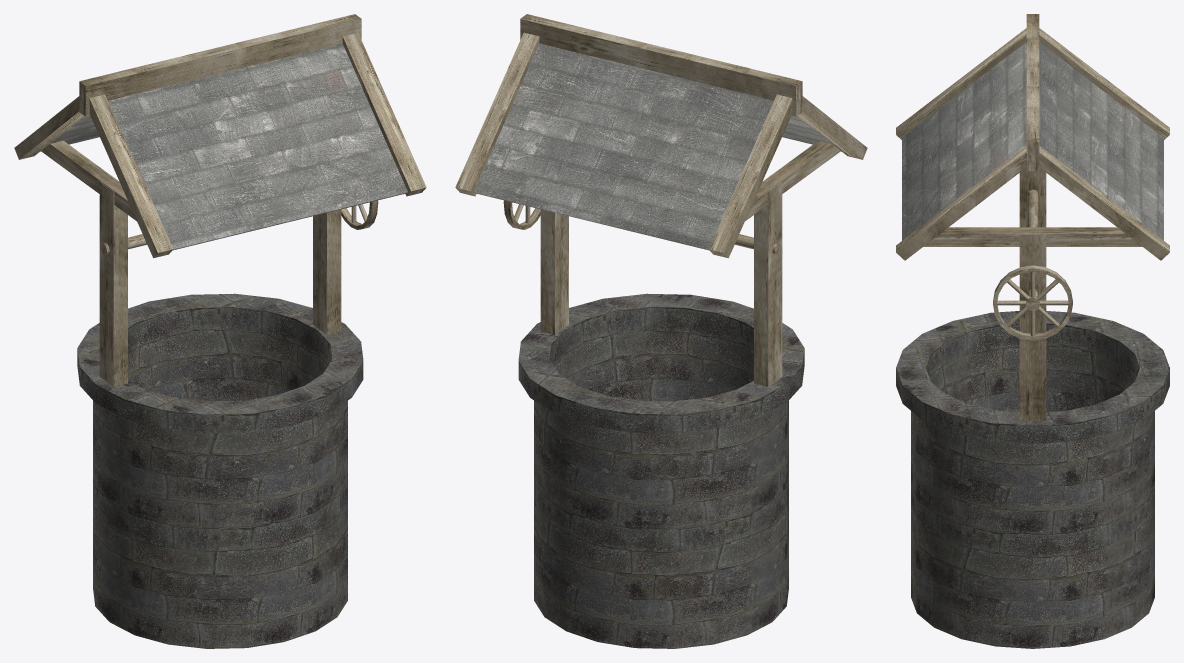
Rendered from Well.fbx.
3 renders of one model, left to right at view 1: azimuth 30°, elevation 25°; view 2: azimuth 150°, elevation 25°; view 3: azimuth 270°, elevation 25°, orthographic. The views are drawn at different scales.
Parts seen in each view (by area): view 1: pCylinder1, pCube5, pCube6, pCube8, pCube1, pCube2, pCube7, pCube3; view 2: pCylinder1, pCube5, pCube6, pCube8, pCube1, pCube2, pCube7, pCube3; view 3: pCylinder1, pCube5, pCube7, pCube2, pCube8, pCube4, pCube6, pPipe1, pCube1, pCylinder3.
Boxes of the visible parts, x1,y1,x2,y2 form: pCylinder1: [77, 293, 363, 648]; pCube5: [40, 43, 407, 250]; pCube6: [79, 14, 361, 116]; pCube8: [14, 94, 173, 258]; pCube1: [99, 181, 127, 386]; pCube2: [313, 209, 341, 334]; pCube7: [342, 32, 426, 196]; pCube3: [41, 140, 136, 221]; pCylinder1: [518, 293, 804, 648]; pCube5: [474, 43, 841, 250]; pCube6: [520, 14, 802, 116]; pCube8: [708, 94, 867, 258]; pCube1: [754, 181, 782, 386]; pCube2: [540, 209, 568, 334]; pCube7: [455, 32, 539, 196]; pCube3: [745, 140, 840, 221]; pCylinder1: [896, 311, 1169, 648]; pCube5: [902, 42, 1163, 240]; pCube7: [896, 146, 1169, 260]; pCube2: [1019, 234, 1046, 420]; pCube8: [896, 28, 1169, 139]; pCube4: [923, 227, 1142, 246]; pCube6: [1026, 14, 1039, 171]; pPipe1: [993, 265, 1072, 340]; pCube1: [1019, 167, 1046, 227]; pCylinder3: [1027, 189, 1038, 309].
Bounding box in the file's own units: 8.89 × 16.79 × 8.03.
